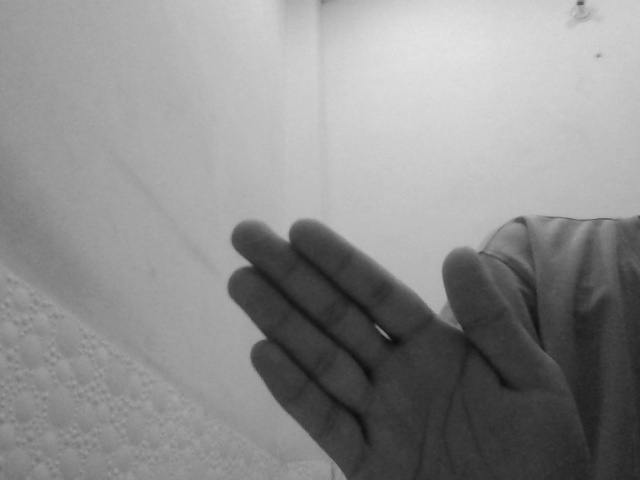Hello: (222, 214, 591, 480)
